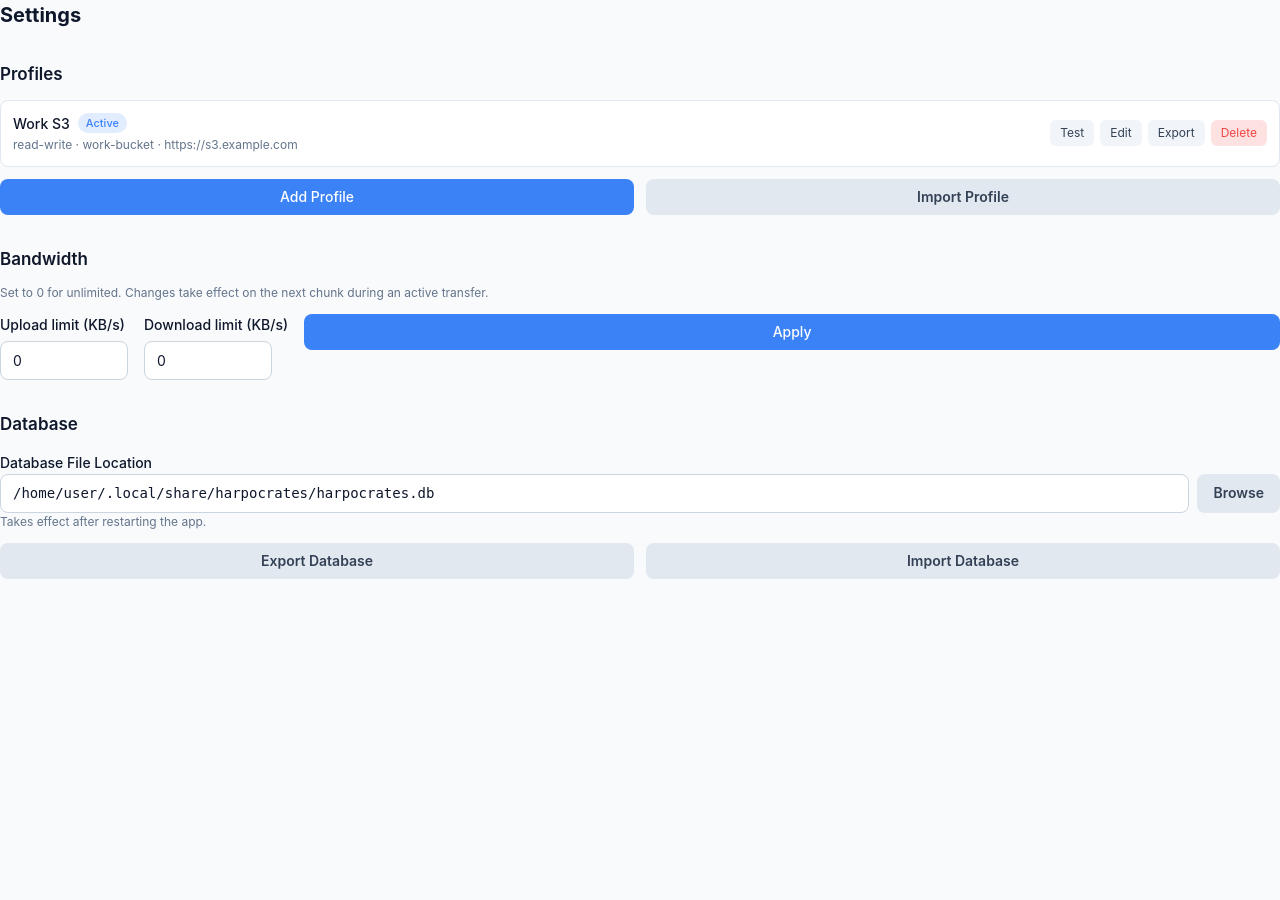
Settings page — add / edit modals › clicking "Add Profile" opens the modal with "New Profile" heading
Expected: the text "Work S3" is shown, [13,114,70,132]
What coordinates should you click on to do the following:
click the button "Add Profile"
I would click on:
 (317, 196)
Its box is [0,178,634,214].
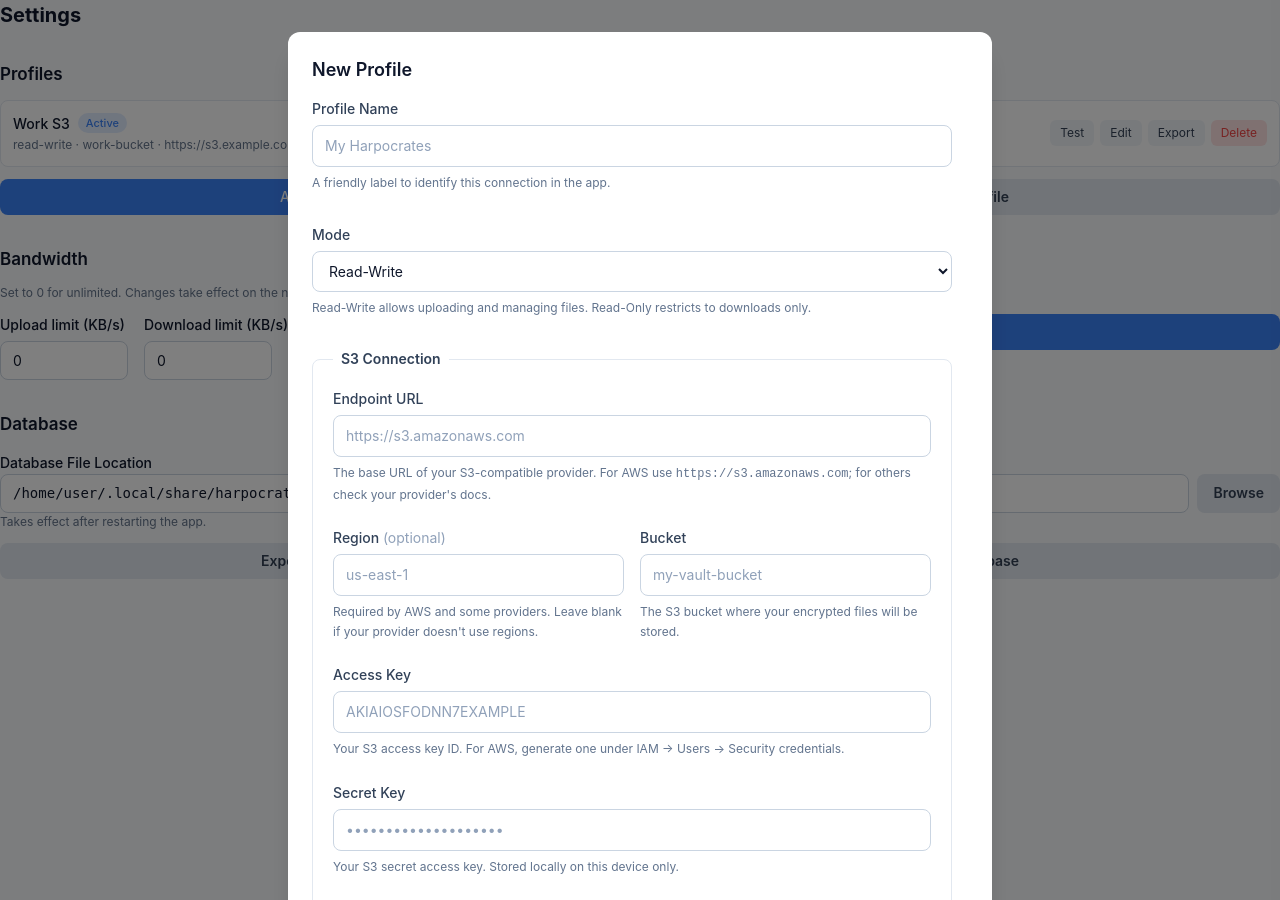
Now the heading "New Profile" is shown, box [312,59,412,80]
